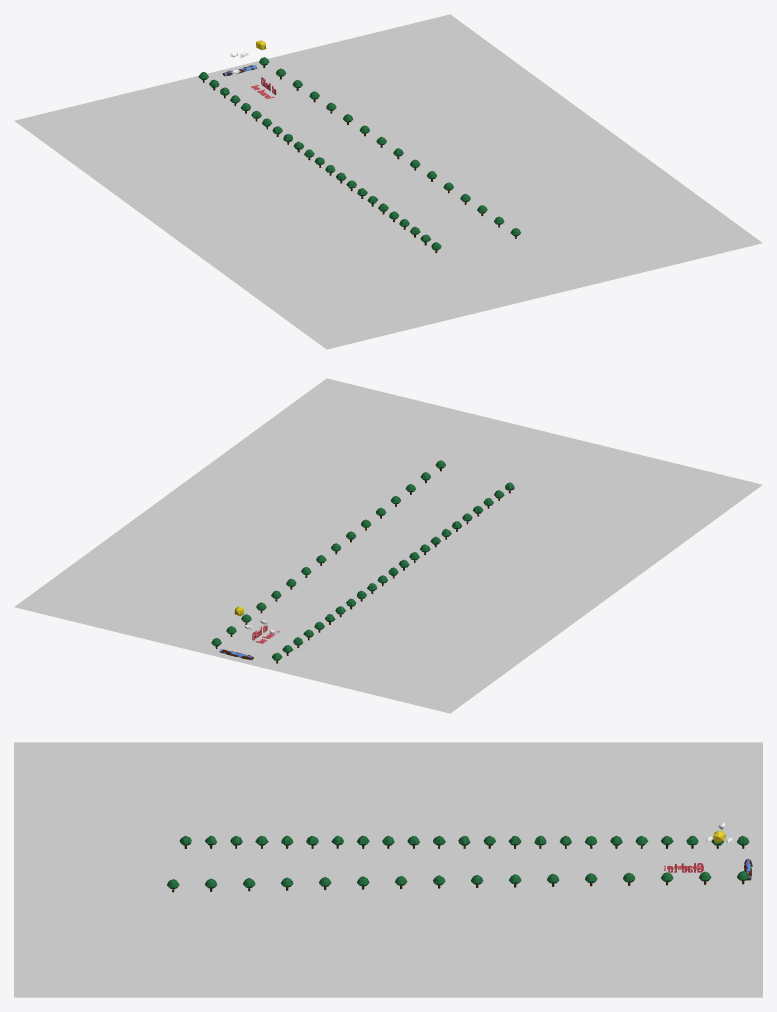
File: main_scenario.glb
The picture shows the model from 3 angles, top to bottom: view 1: azimuth 30°, elevation 25°; view 2: azimuth 150°, elevation 25°; view 3: azimuth 270°, elevation 25°; orthographic projection. The views are drawn at different scales.
Parts seen in each view (by area): view 1: landing-ground, tree.001, tree; view 2: landing-ground, tree.001, tree; view 3: landing-ground, tree.001, tree.
Boxes of the visible parts, bbox=[...] form: landing-ground: bbox=[14, 14, 762, 349]; tree.001: bbox=[198, 72, 441, 253]; tree: bbox=[259, 57, 520, 238]; landing-ground: bbox=[14, 378, 762, 713]; tree.001: bbox=[272, 482, 514, 663]; tree: bbox=[211, 460, 445, 648]; landing-ground: bbox=[14, 742, 762, 997]; tree.001: bbox=[179, 835, 749, 848]; tree: bbox=[167, 871, 749, 892].
Size of the model in its own units: 289 by 26.12 by 359.
